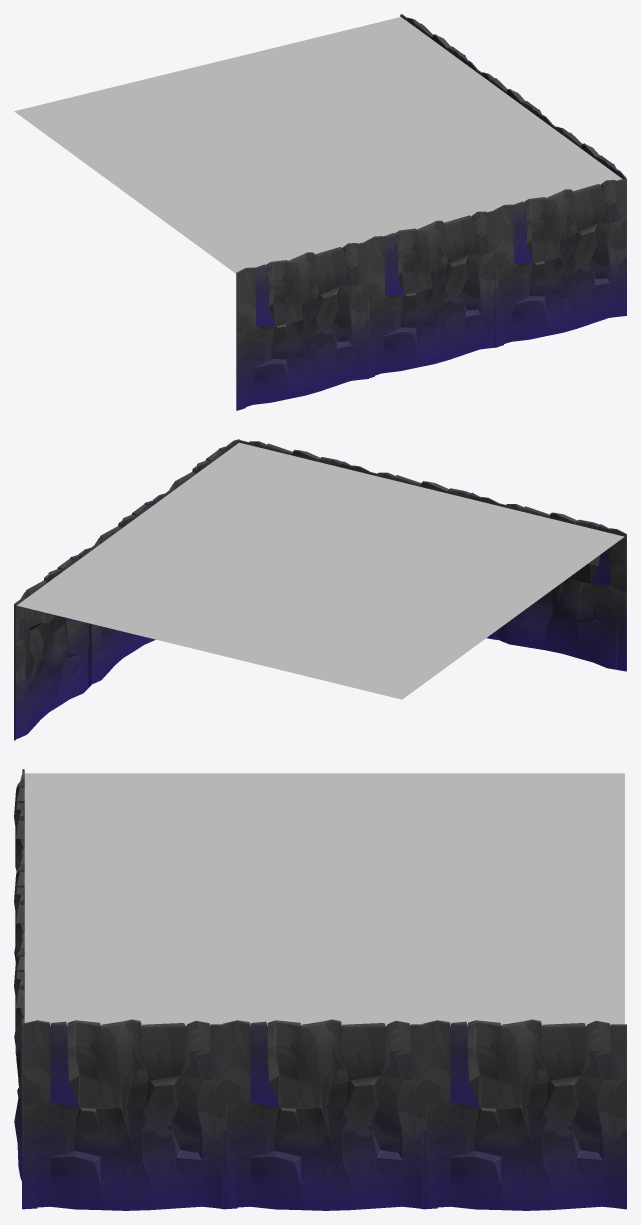
Rendered from Floor_All.FBX.
3 views of the same model, one above another, from view 1: azimuth 30°, elevation 25°; view 2: azimuth 150°, elevation 25°; view 3: azimuth 270°, elevation 25° (orthographic). The views are drawn at different scales.
Visible parts, largest first — view 1: Object005, floor, Object012, Object013, Object003, Object018, Object016, Object017; view 2: Object005, floor, Object012, Object018, Object016, Object003, Object013, Object017; view 3: Object005, floor, Object017, Object018, Object016, Object013, Object003, Object012.
Boxes of the visible parts, x1,y1,x2,y2 form: Object005: (14, 48, 549, 241); floor: (163, 17, 621, 273); Object012: (236, 242, 368, 410); Object013: (494, 178, 626, 347); Object003: (365, 210, 497, 379); Object018: (400, 14, 477, 70); Object016: (475, 69, 551, 124); Object017: (549, 124, 626, 178); Object005: (91, 474, 549, 699); floor: (17, 442, 624, 636); Object012: (495, 503, 626, 671); Object018: (14, 548, 91, 740); Object016: (88, 493, 165, 686); Object003: (366, 472, 498, 639); Object013: (239, 440, 369, 473); Object017: (164, 439, 239, 496); Object005: (24, 773, 624, 1026); floor: (24, 773, 624, 1026); Object017: (22, 1019, 226, 1210); Object018: (422, 1019, 626, 1210); Object016: (222, 1019, 426, 1210); Object013: (14, 938, 24, 1209); Object003: (14, 853, 24, 1081); Object012: (14, 769, 24, 960).
Bounding box in the file's own units: 1206 × 411 × 1206.
